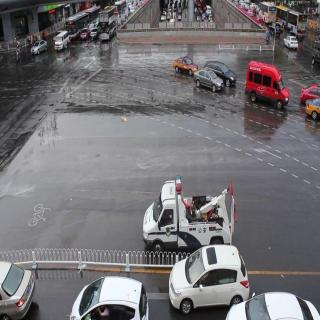Car: (140, 169, 243, 254), (168, 248, 249, 307), (72, 269, 145, 320), (222, 287, 319, 319), (243, 58, 291, 112), (1, 247, 35, 320), (188, 65, 224, 99), (277, 1, 310, 36), (206, 54, 238, 86), (98, 5, 120, 44), (171, 48, 196, 78), (297, 78, 319, 102), (282, 29, 299, 58), (258, 2, 276, 27), (54, 28, 69, 56), (305, 96, 319, 123), (32, 35, 48, 58), (89, 20, 98, 50), (70, 26, 81, 48), (80, 27, 91, 42)
